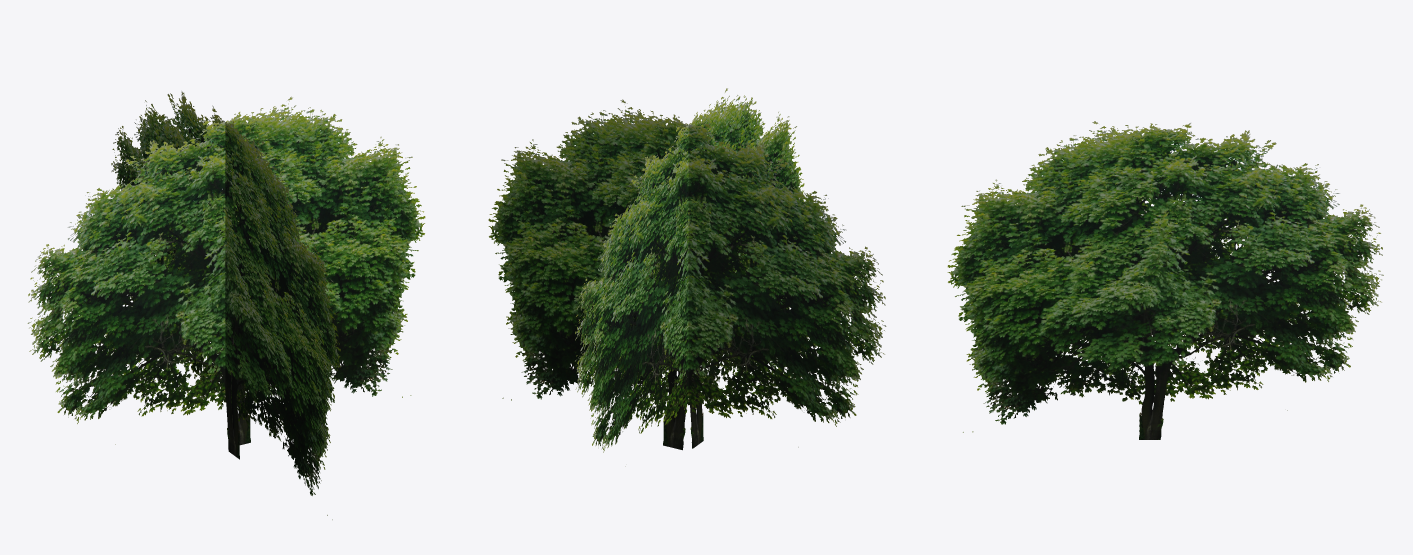
The model's file is tree2.FBX.
The picture shows the model from 3 angles, left to right: view 1: azimuth 30°, elevation 25°; view 2: azimuth 150°, elevation 25°; view 3: azimuth 270°, elevation 25°; orthographic projection. The views are drawn at different scales.
Visible parts, largest first — view 1: ghfhgfh; view 2: ghfhgfh; view 3: ghfhgfh.
Part boxes in pixels (x1,y1,x2,y2): ghfhgfh: (27, 91, 425, 519); ghfhgfh: (488, 88, 886, 466); ghfhgfh: (947, 121, 1383, 439).
Size of the model in its own units: 534 by 534 by 411.
1 material, 1 textured.
